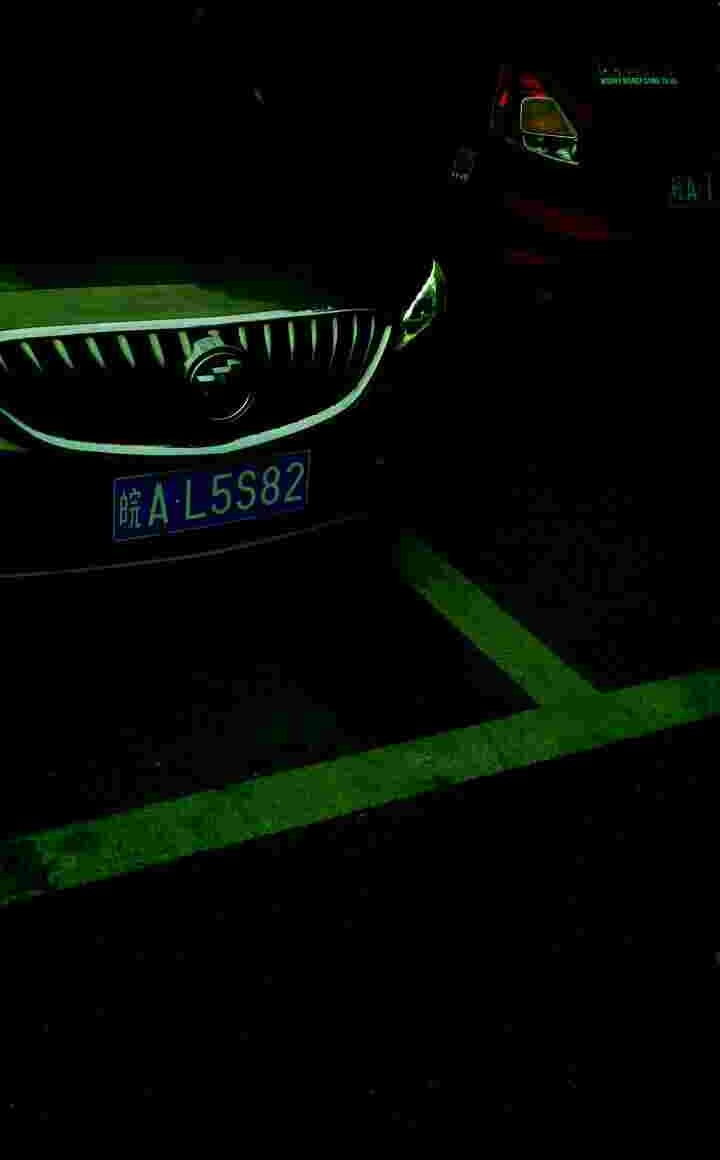plate: (118, 444, 317, 545)
